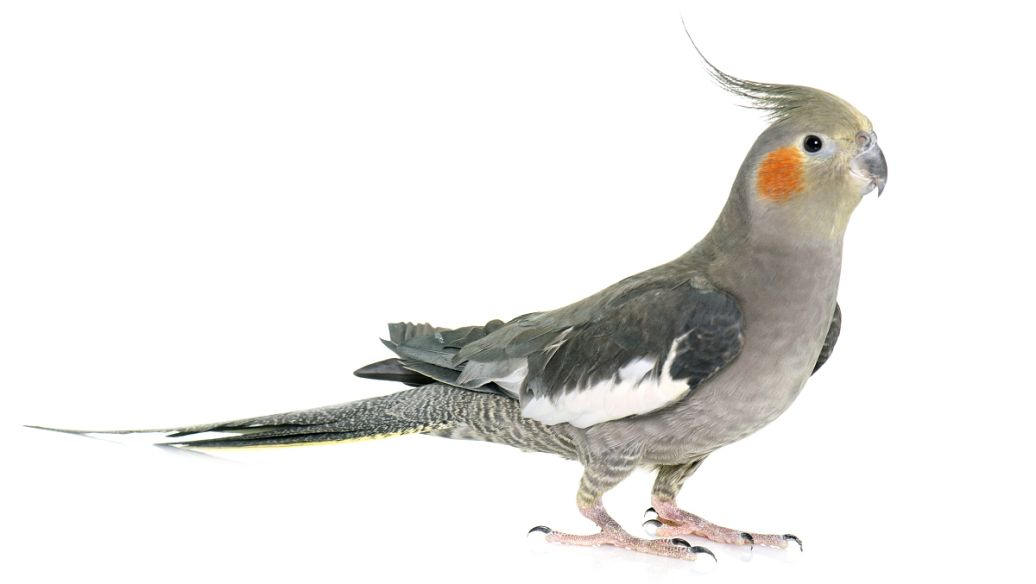bird: (110, 38, 896, 566)
